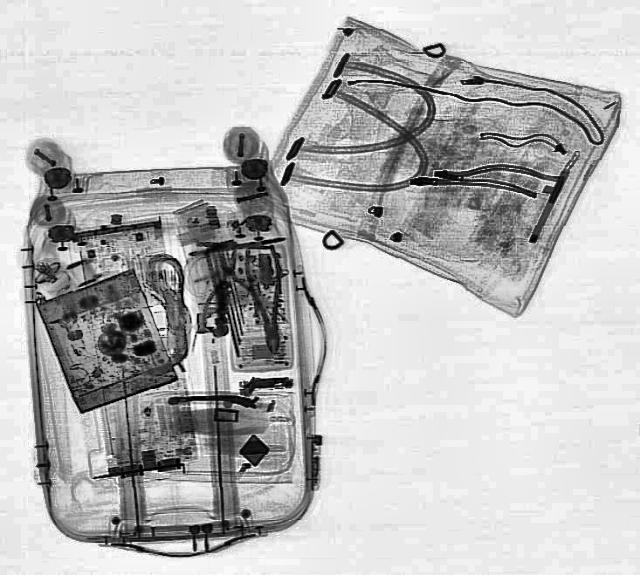Pliers: (240, 243, 290, 357), (198, 245, 258, 325)
